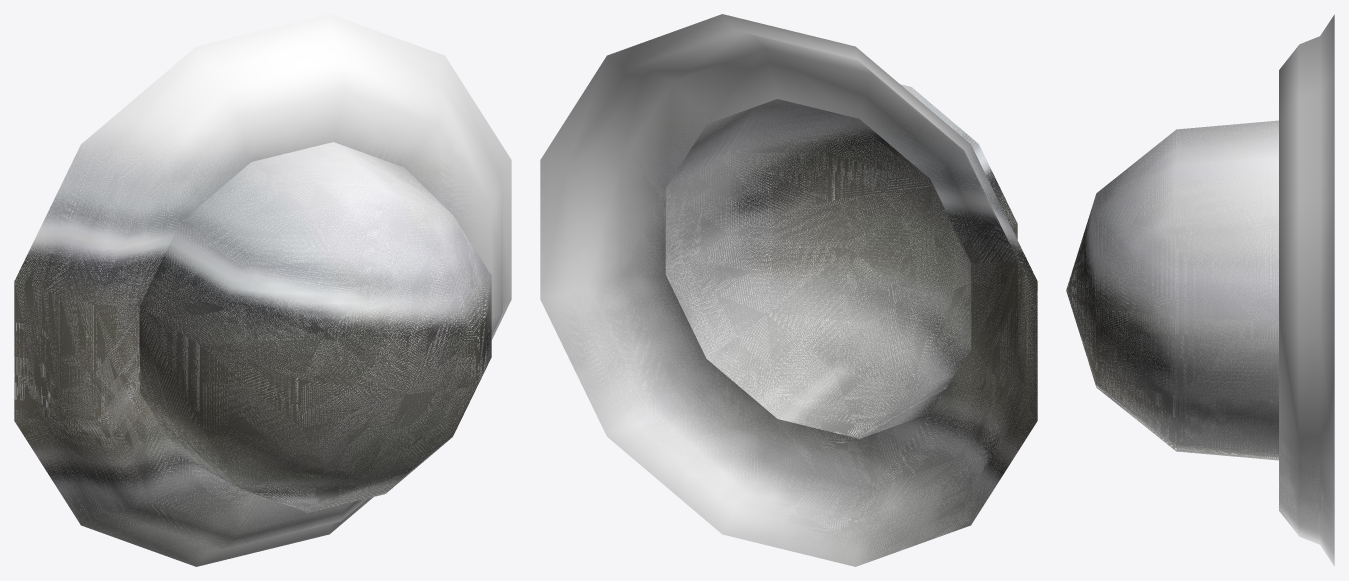
File: original-50.obj
The picture shows the model from 3 angles, left to right: view 1: azimuth 30°, elevation 25°; view 2: azimuth 150°, elevation 25°; view 3: azimuth 270°, elevation 25°; orthographic projection. The views are drawn at different scales.
Visible parts, largest first — view 1: mesh37/mesh37-geometry#mesh37-geometry; view 2: mesh37/mesh37-geometry#mesh37-geometry; view 3: mesh37/mesh37-geometry#mesh37-geometry.
Boxes of the visible parts, x1,y1,x2,y2 form: mesh37/mesh37-geometry#mesh37-geometry: [14, 14, 511, 566]; mesh37/mesh37-geometry#mesh37-geometry: [540, 14, 1037, 566]; mesh37/mesh37-geometry#mesh37-geometry: [1066, 14, 1334, 566].
Bounding box in the file's own units: 0.0177 × 0.0177 × 0.00875.
